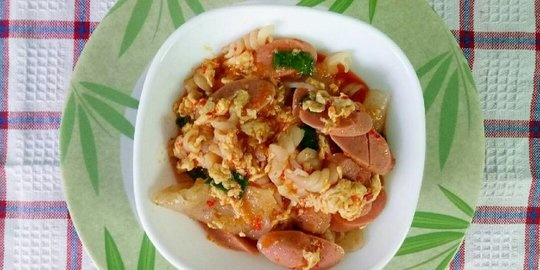seblak: (154, 23, 395, 270)
